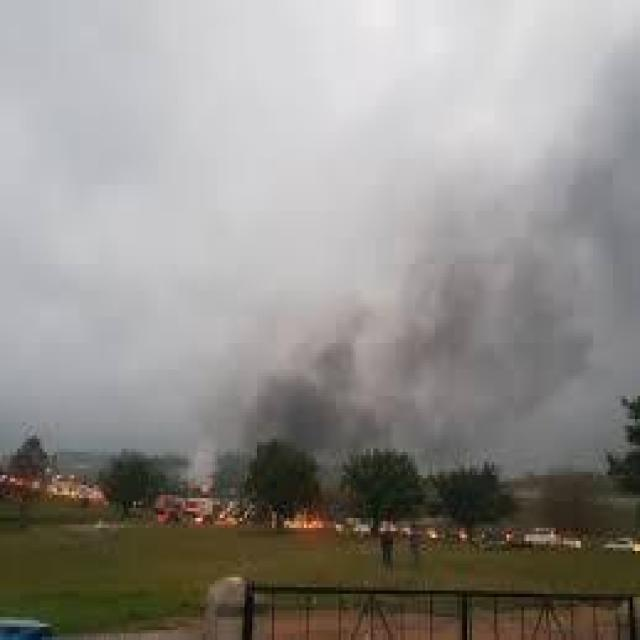fire: (276, 500, 341, 535)
smoke: (239, 350, 428, 456)
